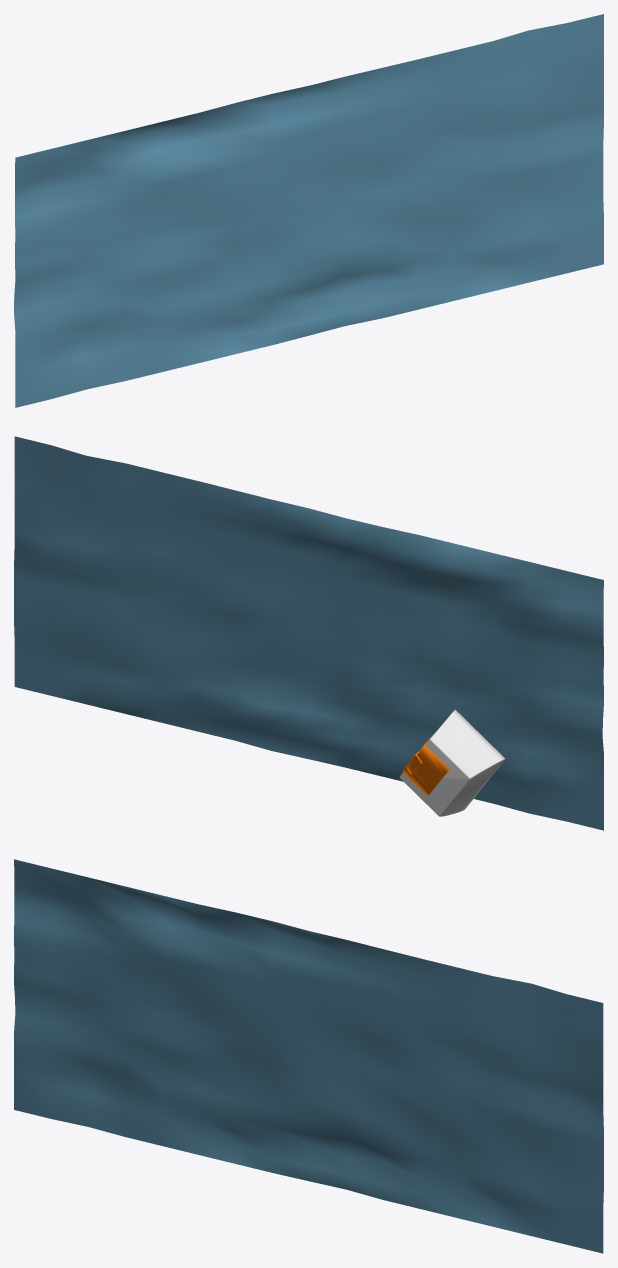
3 views of the same model, one above another, from view 1: azimuth 30°, elevation 25°; view 2: azimuth 150°, elevation 25°; view 3: azimuth 330°, elevation 25° (orthographic).
Parts seen in each view (by area): view 1: Plane; view 2: Plane; view 3: Plane.
Part boxes in pixels (bbox=[...]): Plane: bbox=[14, 14, 603, 407]; Plane: bbox=[14, 436, 603, 830]; Plane: bbox=[14, 859, 603, 1253].
Size of the model in its own units: 118 by 48.83 by 14.
